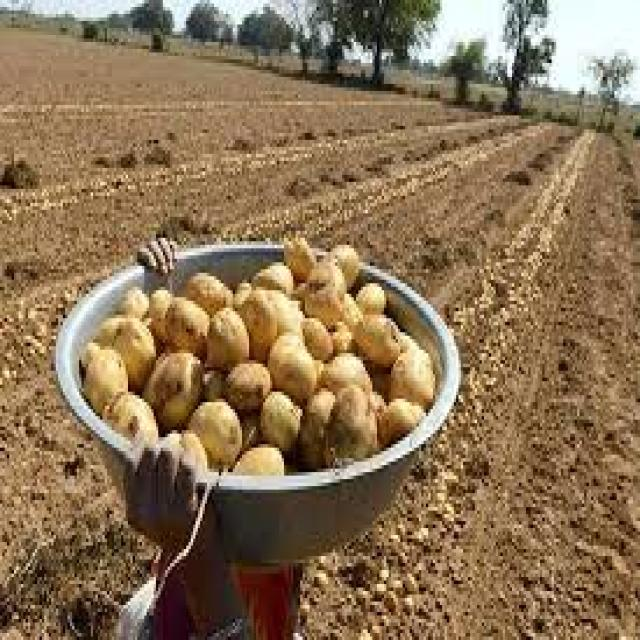Potato: (80, 332, 134, 443), (145, 348, 214, 426), (233, 275, 301, 350)
